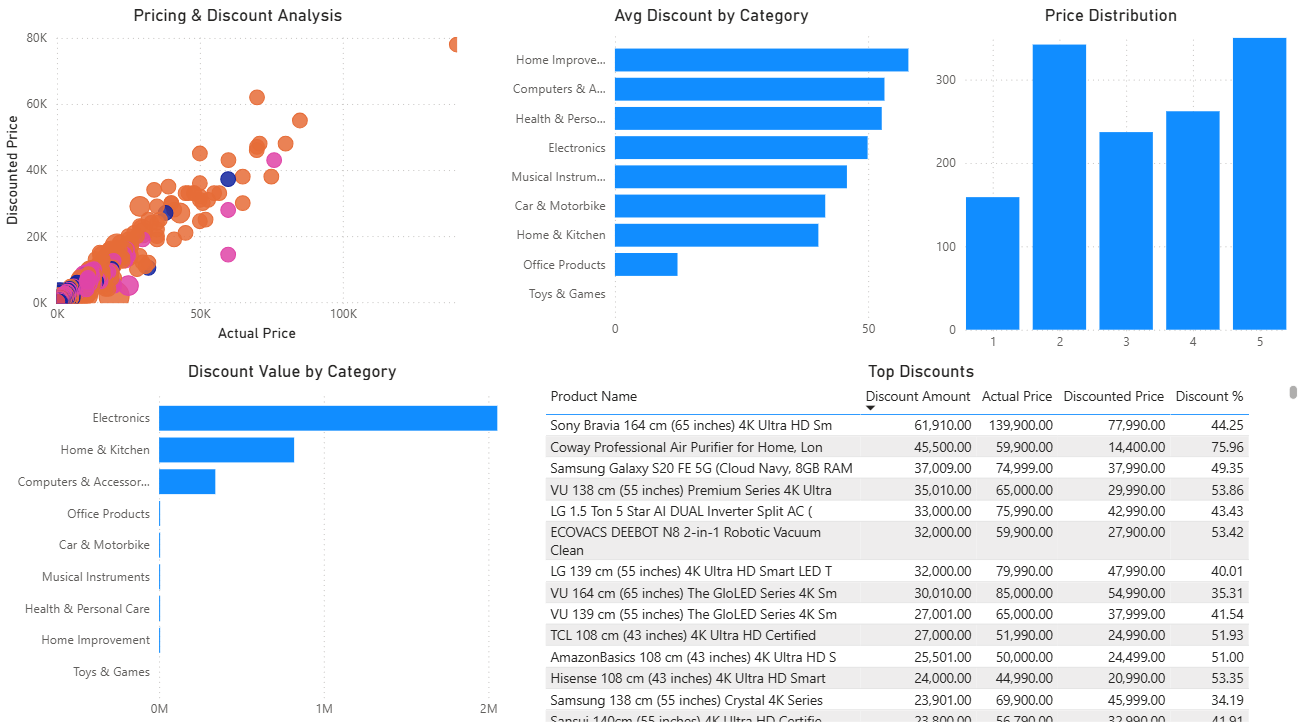

Layout of this report page (visuals, bound fields, positions):
{"tool":"powerbi","page":{"name":"Pricing & Discount Analysis","canvas":[1280,720],"ordinal":1},"visuals":[{"type":"scatterChart","title":"Pricing & Discount Analysis","fields":{"X":["FactProducts.Actual Price"],"Y":["FactProducts.Discounted Price"],"Series":["FactProducts.main_category"],"Size":["CountNonNull(FactProducts.Rating Count)"]},"box":[1.2,10.8,468.3,336.2],"z":0},{"type":"barChart","title":"Avg Discount by Category","fields":{"Y":["Table.Avg Discount %"],"Category":["FactProducts.main_category"]},"box":[483.9,10.8,431.1,336.2],"z":1000},{"type":"clusteredColumnChart","title":"Price Distribution","fields":{"Category":["FactProducts.Price Band Sort"],"Y":["Table.Total Products"]},"box":[915,10.8,354.2,349.4],"z":2000},{"type":"clusteredBarChart","title":"Discount Value by Category","fields":{"Category":["FactProducts.main_category"],"Y":["Table.Total Discount Given"]},"box":[1.4,359.9,574.7,359.9],"z":3000},{"type":"tableEx","title":"Top Discounts","fields":{"Values":["FactProducts.Short Product Name","FactProducts.discount_amount","FactProducts.Actual Price","FactProducts.Discounted Price","FactProducts.discount_pct_calc"]},"box":[530.7,360.2,749.3,359],"z":4000}]}

Visuals, with their boxes in screenshot pixels (x1, y1, x2, y2), scaled from the page's 1280x720 canvas onto the 1302x726 screenshot:
"Pricing & Discount Analysis" scatterChart: 1,11,478,350
"Avg Discount by Category" barChart: 492,11,931,350
"Price Distribution" clusteredColumnChart: 931,11,1291,363
"Discount Value by Category" clusteredBarChart: 1,363,586,725
"Top Discounts" tableEx: 540,363,1301,725
